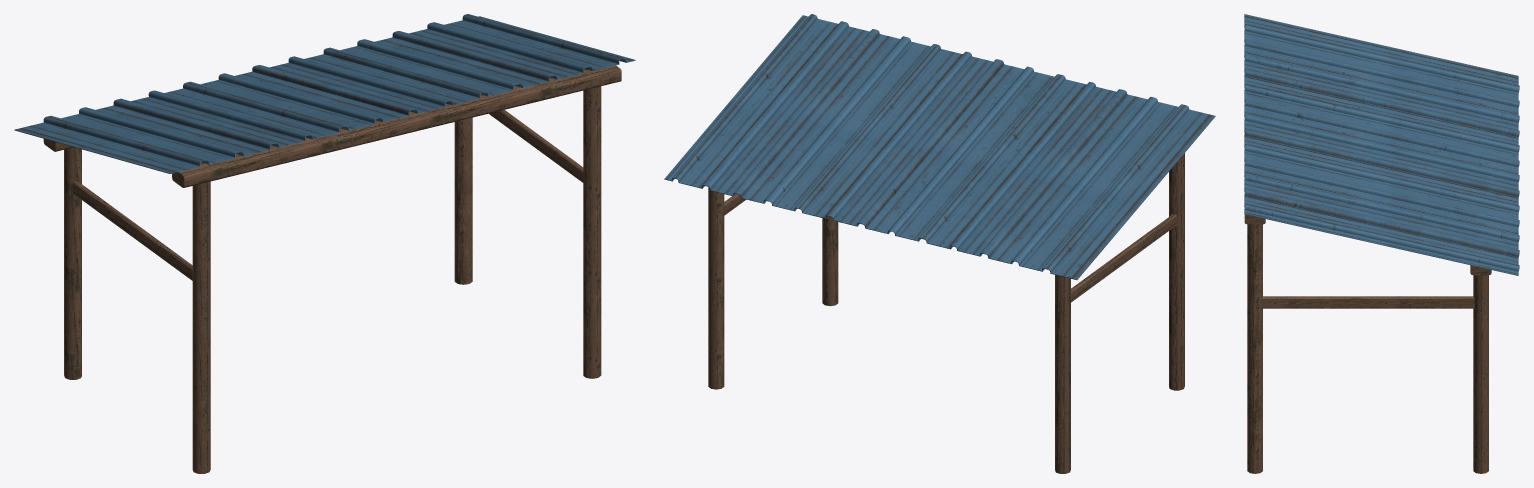
The model's file is Prop_Hut.fbx.
The picture shows the model from 3 angles, left to right: view 1: azimuth 30°, elevation 25°; view 2: azimuth 150°, elevation 25°; view 3: azimuth 270°, elevation 25°; orthographic projection. The views are drawn at different scales.
Visible parts, largest first — view 1: Prop_Hut; view 2: Prop_Hut; view 3: Prop_Hut.
Part boxes in pixels (box(x1,y1,x2,y2)): Prop_Hut: box(14, 14, 635, 473); Prop_Hut: box(664, 14, 1215, 473); Prop_Hut: box(1244, 14, 1519, 473).
Size of the model in its own units: 247 by 160 by 144.
